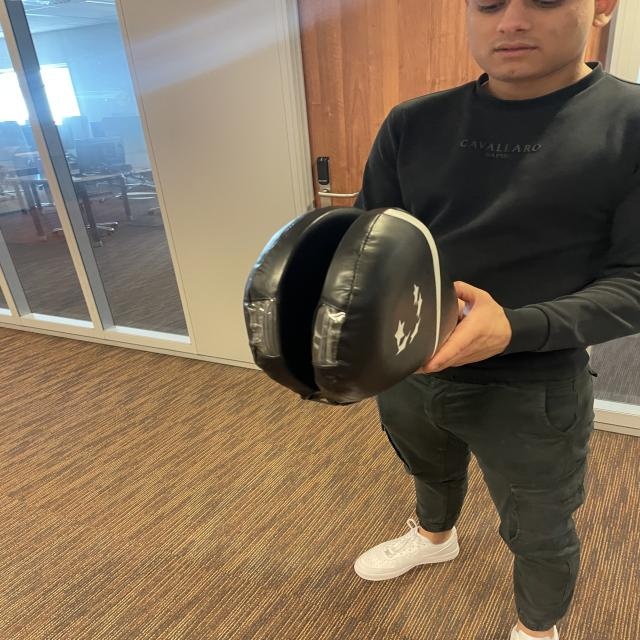paddle: (246, 207, 460, 401)
